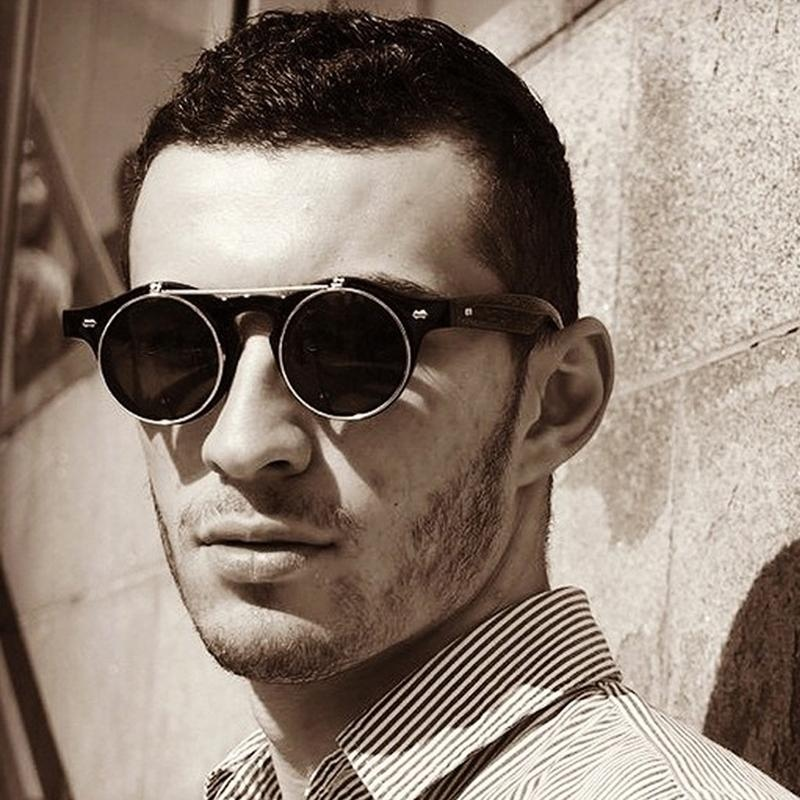no_mask: (143, 438, 506, 685)
